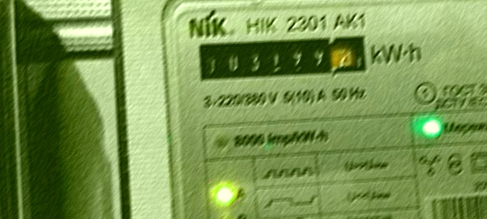0: (204, 52, 218, 74), (227, 50, 240, 71)
1: (271, 46, 282, 66)
3: (249, 51, 262, 71)
6: (338, 52, 350, 69)
9: (292, 45, 304, 66), (313, 45, 325, 65)
screen: (192, 23, 378, 94)
